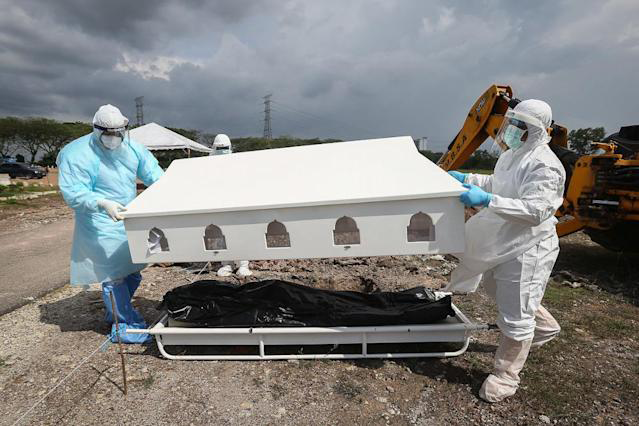Coverall: (456, 96, 565, 378), (55, 102, 159, 323)
Gloves: (458, 179, 492, 209), (93, 194, 127, 221)
with_mask: (502, 117, 531, 152), (99, 126, 124, 153)
